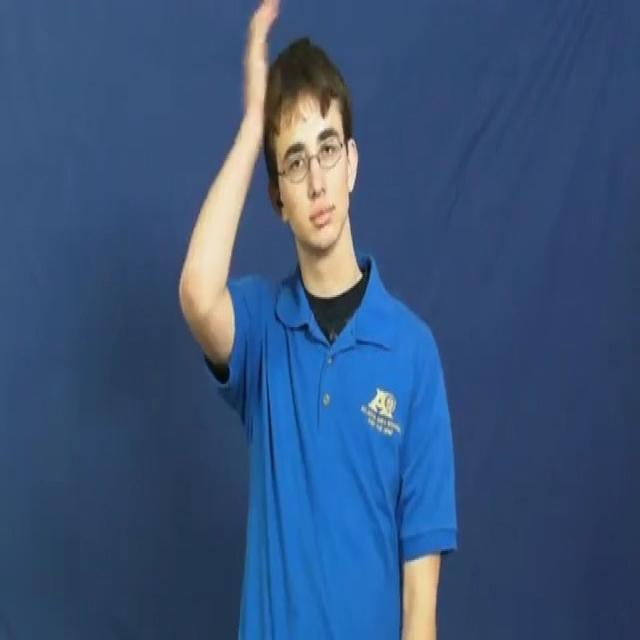lettuce: (174, 0, 286, 404)
